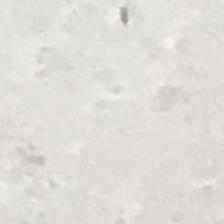Non_Crack: (12, 25, 224, 216)
